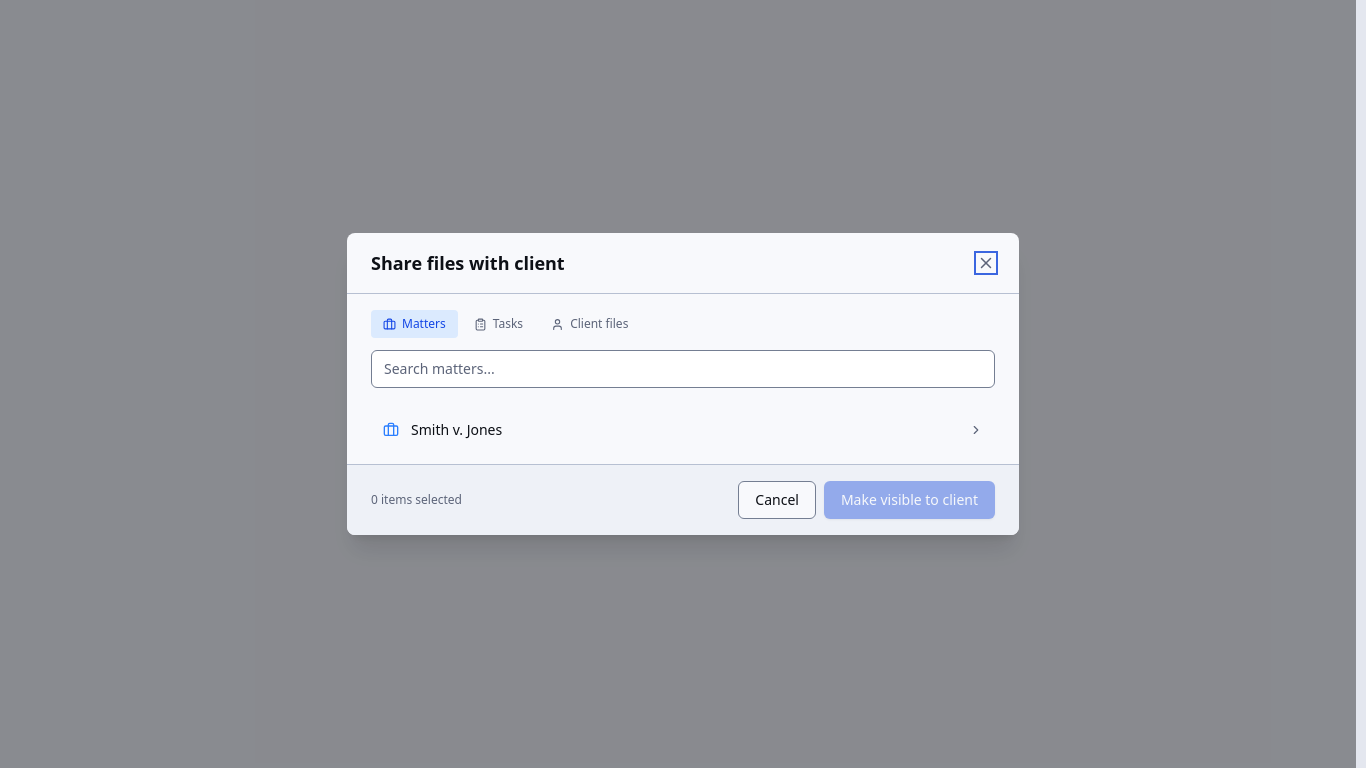
it: ClientShareFilePicker file listing › warns when the server reports the folder listing was cut short
Click the button "Smith v. Jones" at (457, 430), box [371,408,995,452]
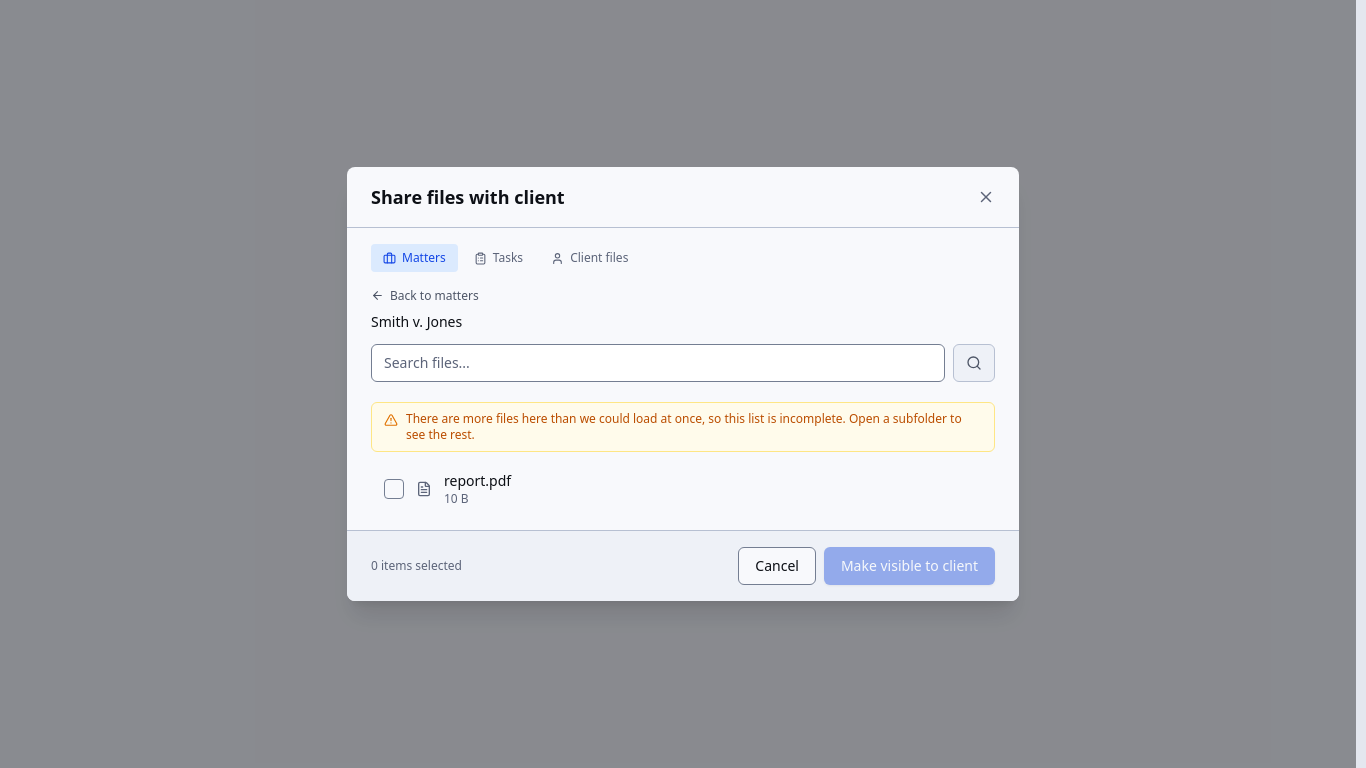
Now the text "this list is incomplete" is shown, box [406,410,962,443]
